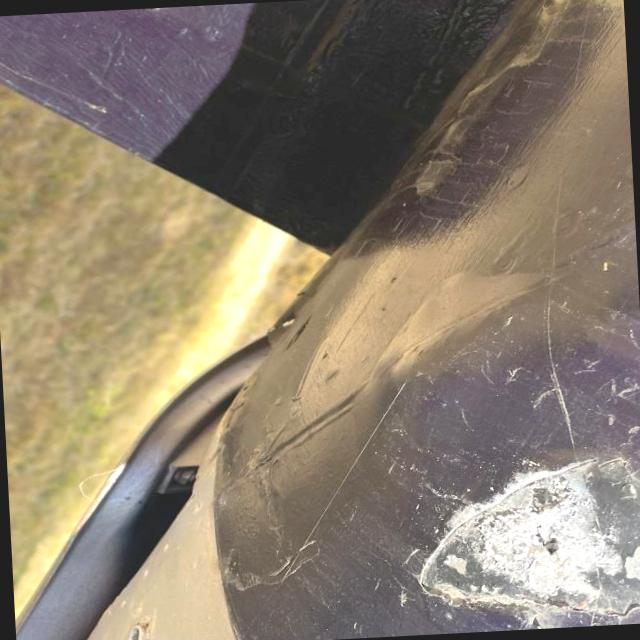dent: (399, 455, 640, 617)
